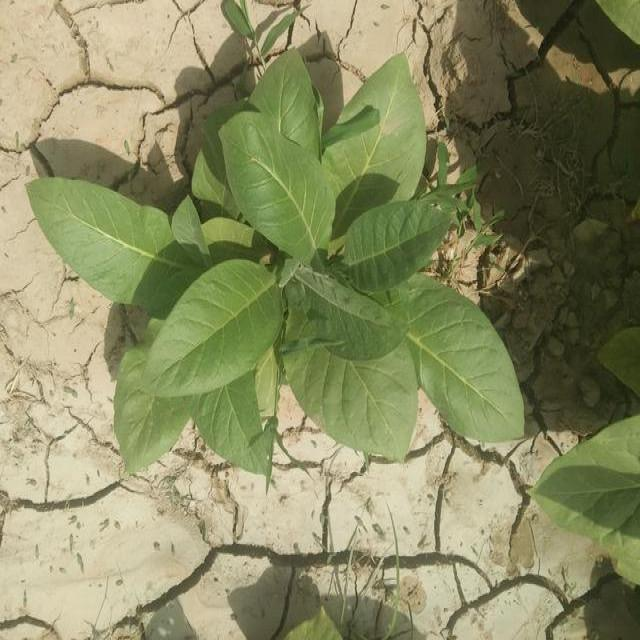crop: (49, 182, 270, 464), (288, 255, 516, 449), (240, 75, 438, 258), (536, 434, 640, 580)
